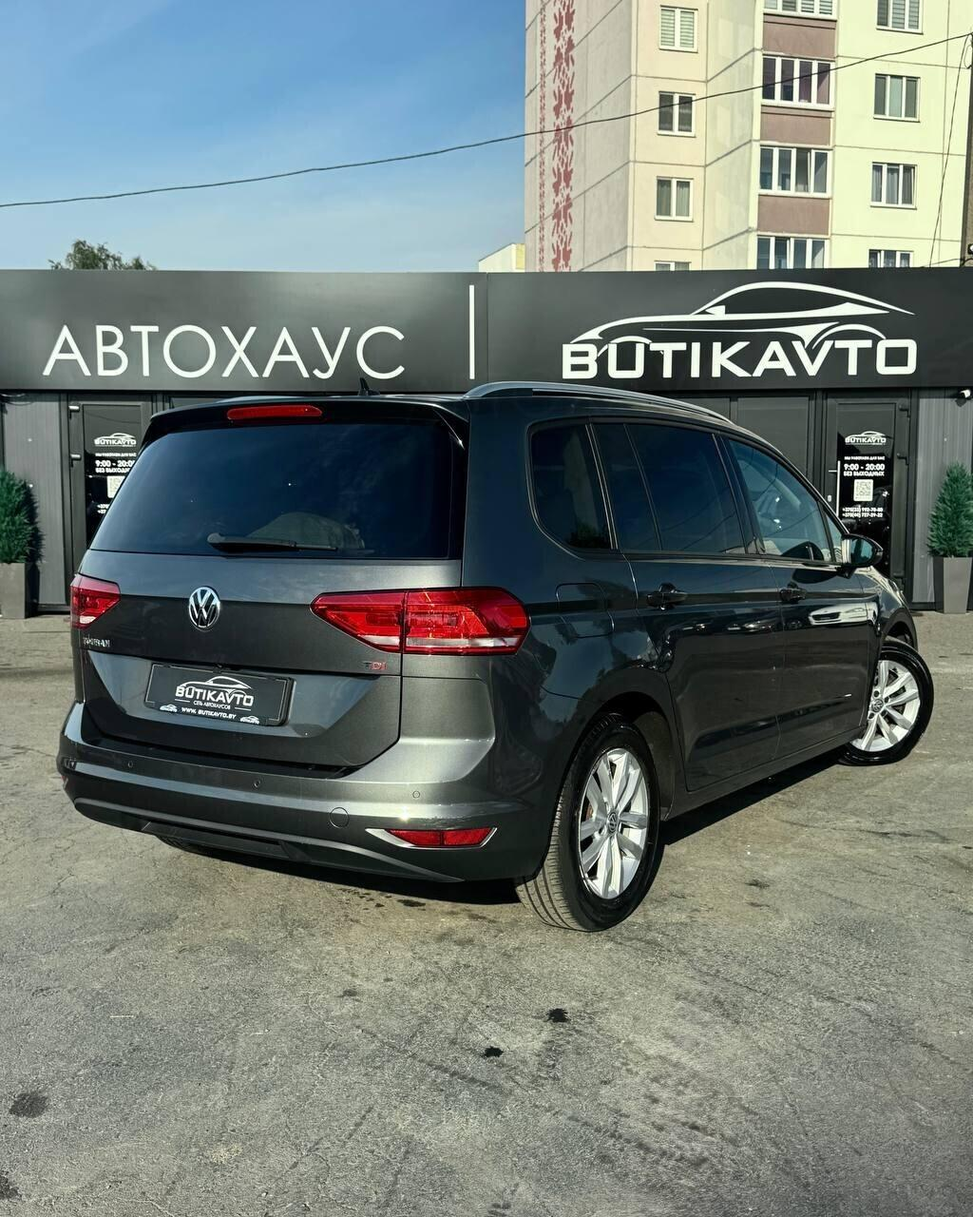Touran_2015: (48, 377, 936, 937)
